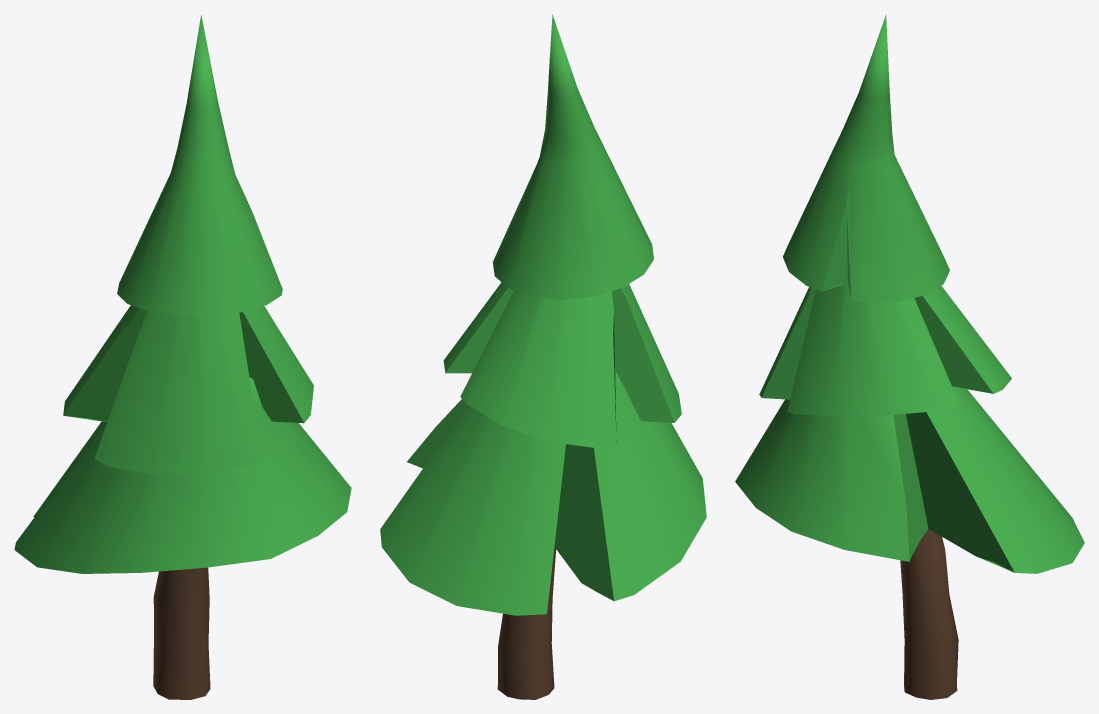
File: WF_PCGTree.02.glb
3 renders of one model, left to right at view 1: azimuth 30°, elevation 25°; view 2: azimuth 150°, elevation 25°; view 3: azimuth 270°, elevation 25°, orthographic. The views are drawn at different scales.
Visible parts, largest first — view 1: Tree.02; view 2: Tree.02; view 3: Tree.02.
Part boxes in pixels (x1=…): Tree.02: x1=14, y1=15, x2=351, y2=699; Tree.02: x1=380, y1=14, x2=706, y2=699; Tree.02: x1=735, y1=14, x2=1084, y2=699.
Size of the model in its own units: 0.5981 by 1.36 by 0.6431.
